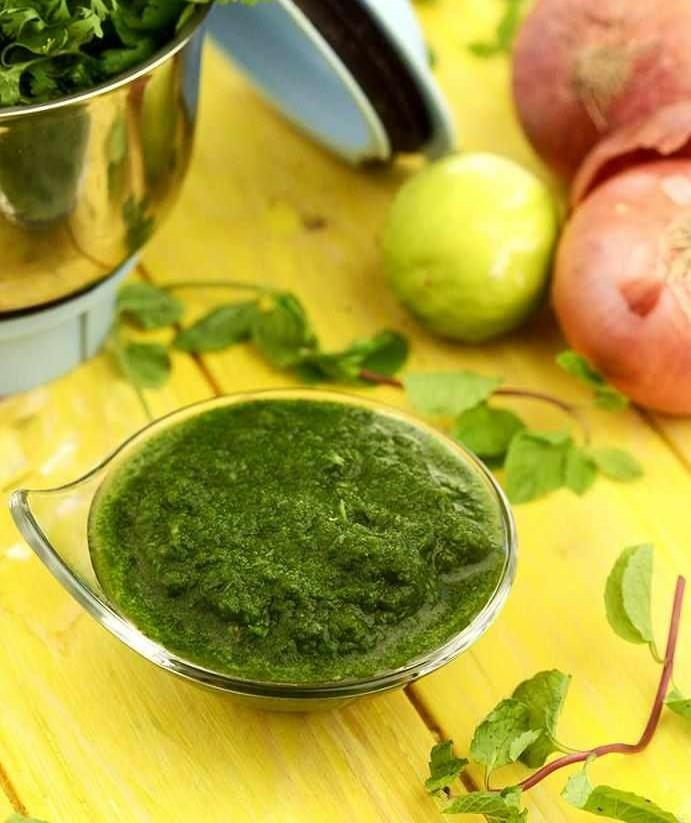GreenChutney: (89, 395, 506, 690)
